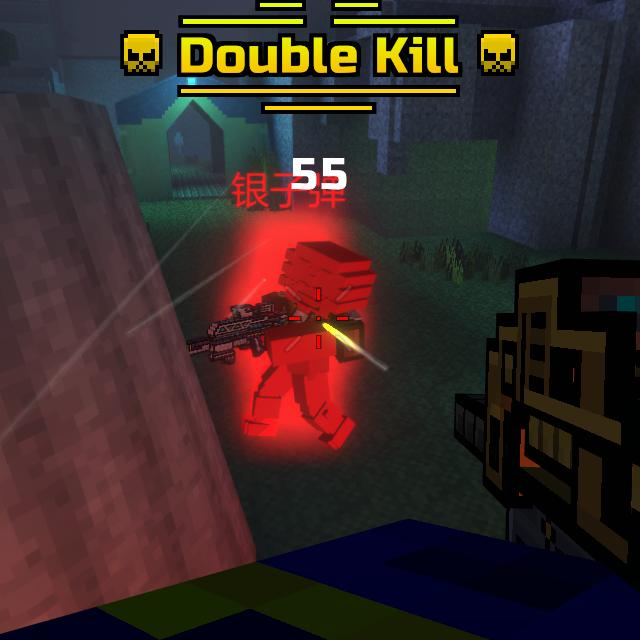Enemy: (239, 238, 365, 430)
